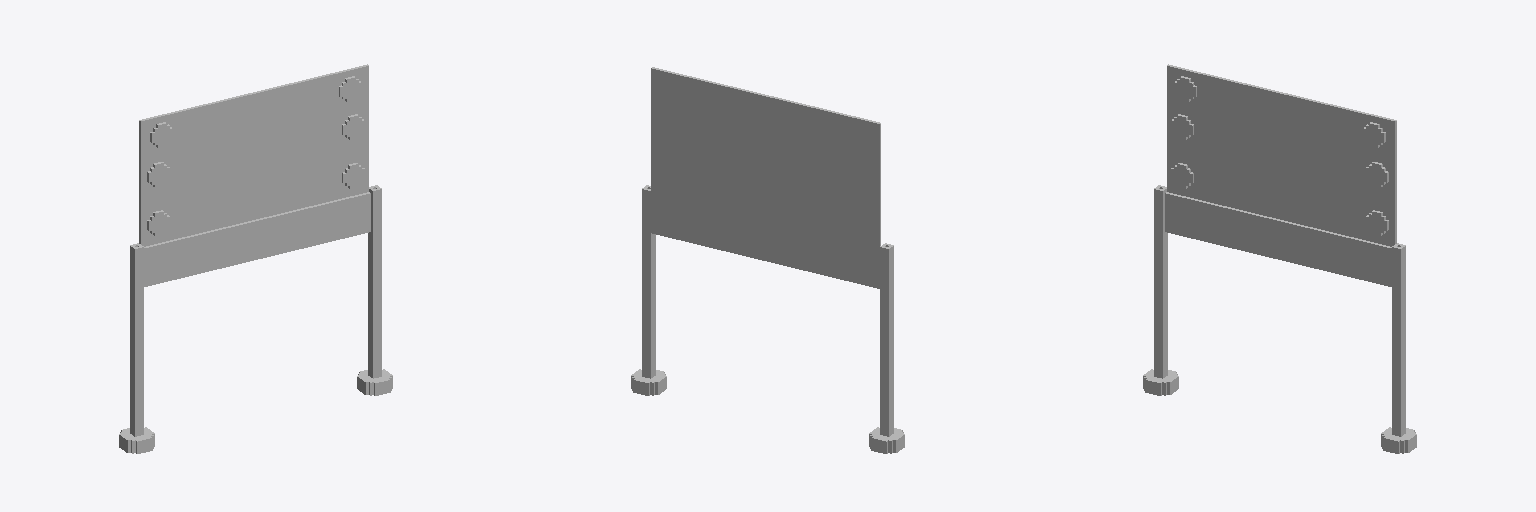
The model's file is warning barra alta.obj.
3 views of the same model, side by side, from view 1: azimuth 30°, elevation 25°; view 2: azimuth 150°, elevation 25°; view 3: azimuth 330°, elevation 25° (orthographic).
Parts seen in each view (by area): view 1: object 1; view 2: object 1; view 3: object 1.
Part boxes in pixels (x1,y1,x2,y2): object 1: (119, 64, 392, 453); object 1: (631, 67, 904, 453); object 1: (1143, 64, 1416, 453).
Size of the model in its own units: 8.6 by 10 by 0.9.